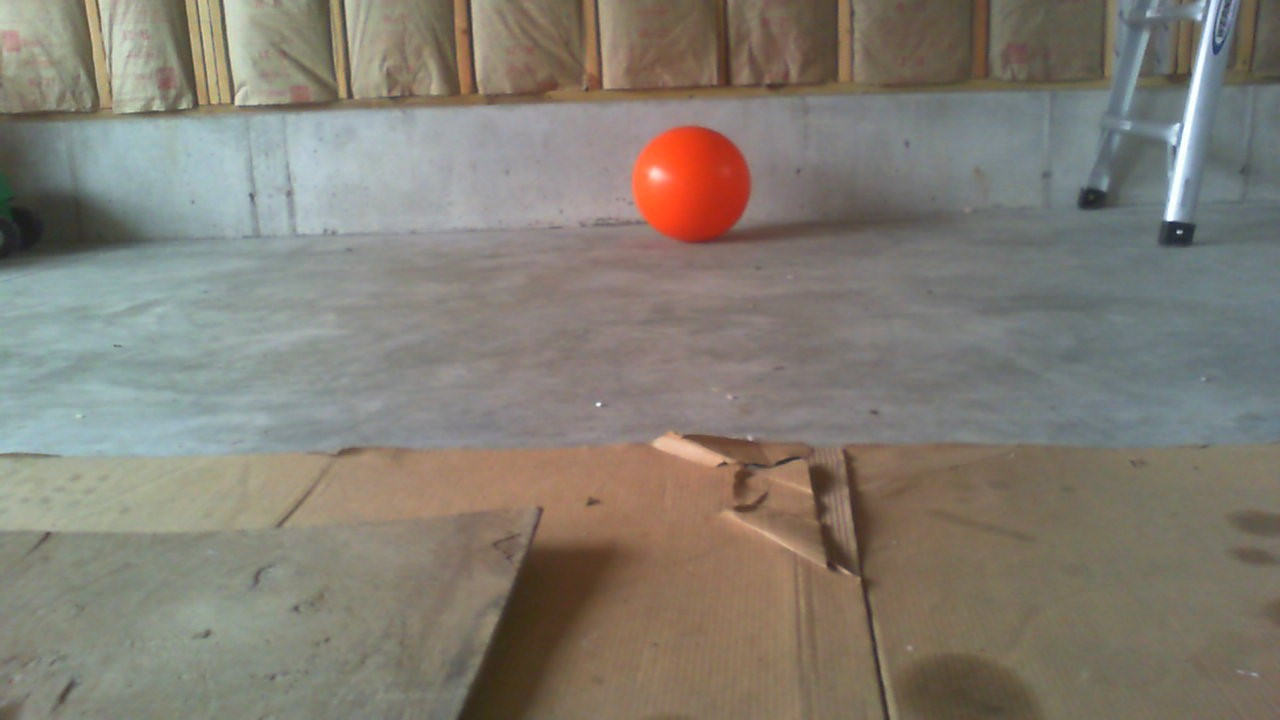Ball: (633, 126, 750, 240)
